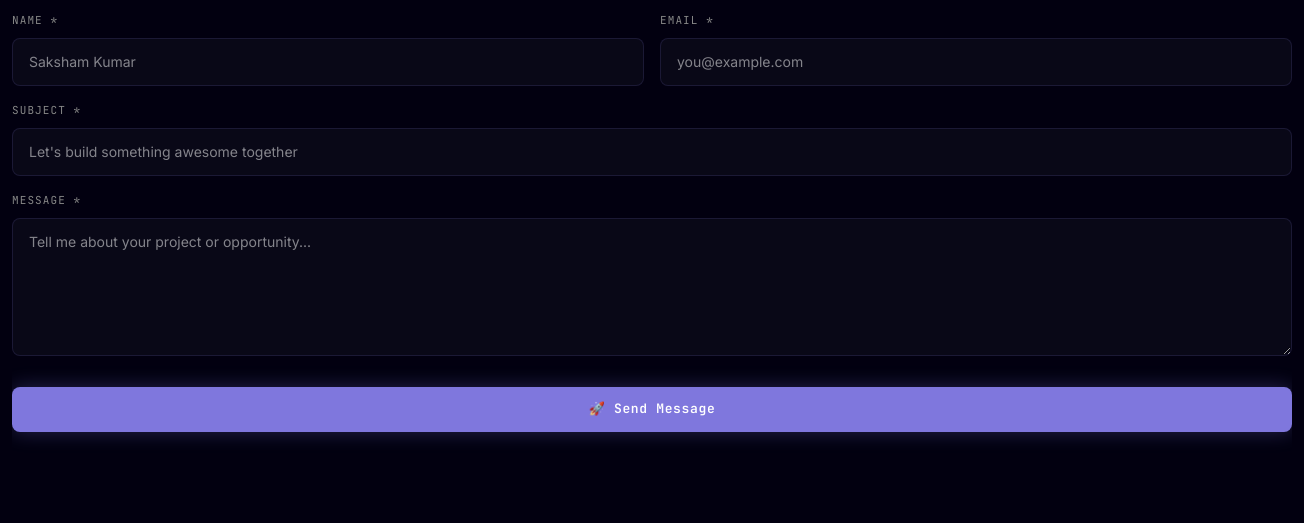
Test case: ContactForm › should show invalid email error
Type "not-an-email" into the field with placeholder "you@example.com" at (976, 62), box left=660, top=38, right=1292, bottom=86
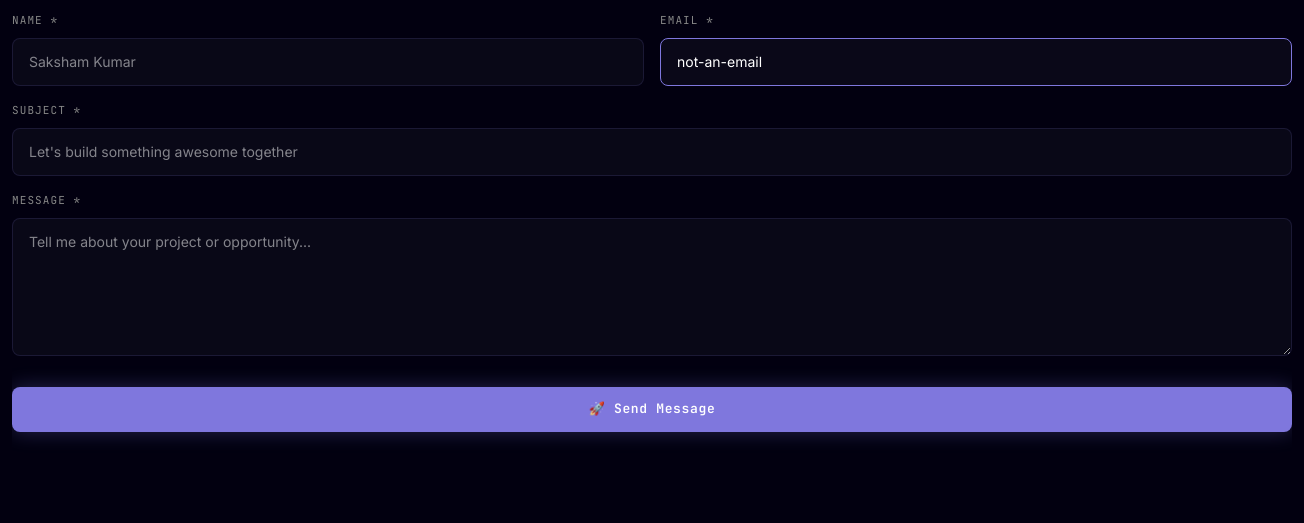
Click the button "🚀 Send Message" at (652, 410), box left=12, top=387, right=1292, bottom=432
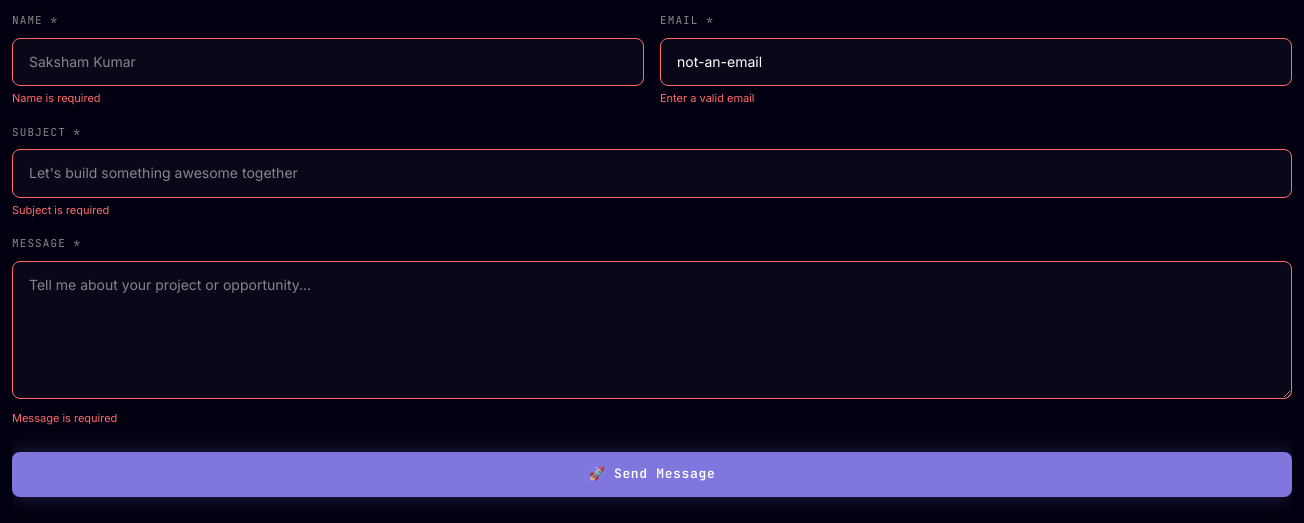
Check: the text "Enter a valid email" is shown, box left=660, top=91, right=754, bottom=105
